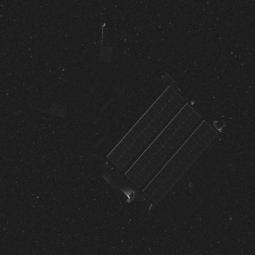proba_2: (83, 56, 203, 217)
